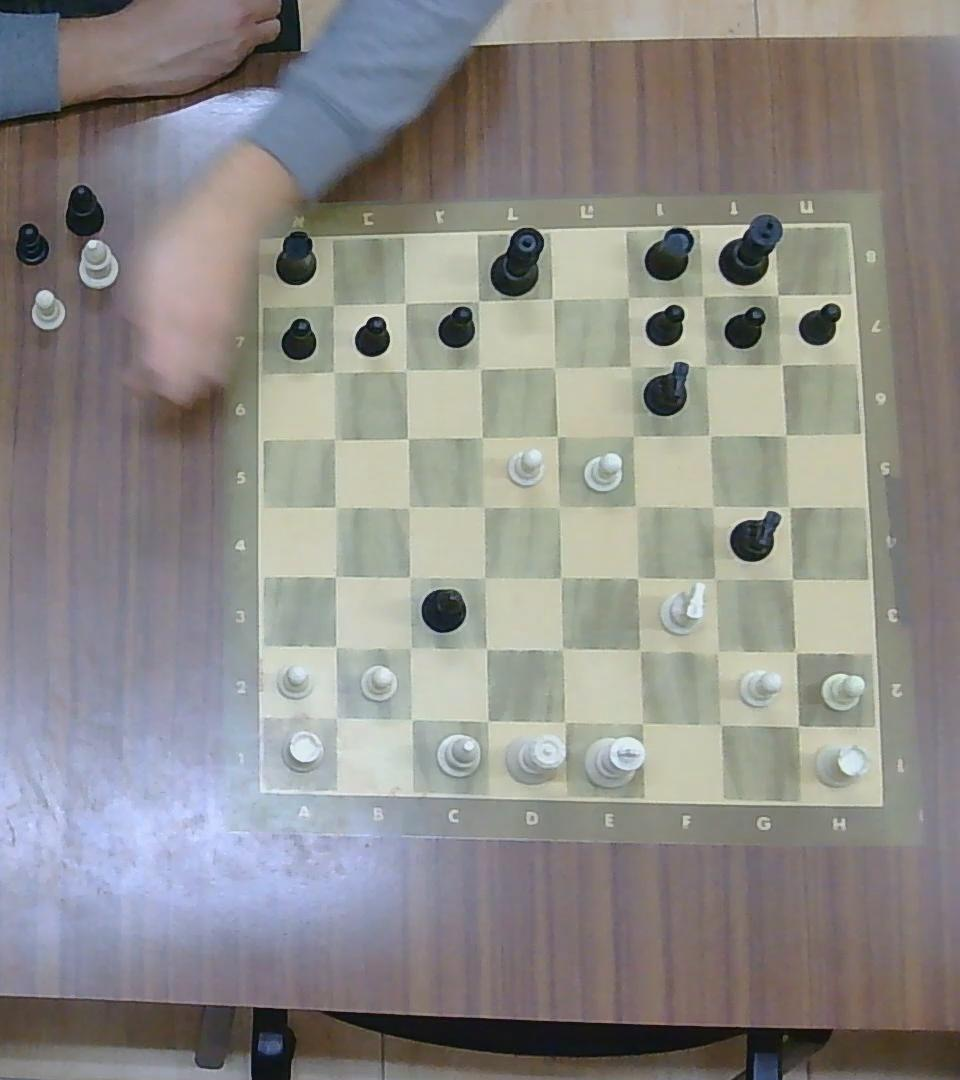xcorner: (702, 705, 737, 739), (624, 706, 658, 738), (701, 635, 734, 667), (781, 709, 813, 741), (624, 633, 655, 665), (548, 704, 579, 736), (470, 704, 501, 736), (547, 633, 578, 665), (320, 701, 350, 733), (395, 703, 425, 734), (780, 636, 811, 666), (622, 561, 651, 592), (470, 633, 501, 662), (547, 563, 576, 593), (394, 633, 424, 662), (320, 631, 350, 660), (776, 564, 806, 593), (699, 564, 728, 593), (469, 491, 498, 520), (470, 562, 499, 591), (394, 562, 423, 591), (616, 351, 645, 380), (320, 561, 349, 589), (545, 491, 573, 520), (622, 490, 651, 518), (617, 421, 646, 449), (466, 421, 495, 448), (698, 492, 727, 519), (321, 492, 350, 519), (543, 421, 571, 448), (320, 358, 347, 384), (615, 283, 641, 310), (540, 285, 566, 312), (395, 493, 423, 518), (774, 493, 802, 518), (693, 351, 719, 377), (394, 424, 420, 449), (696, 421, 722, 446), (541, 353, 567, 378), (768, 350, 794, 375), (467, 355, 491, 380), (773, 421, 798, 445), (466, 288, 491, 312), (393, 357, 417, 381), (320, 425, 344, 448), (393, 290, 417, 313), (691, 283, 714, 307), (321, 293, 343, 314), (767, 284, 789, 305)
